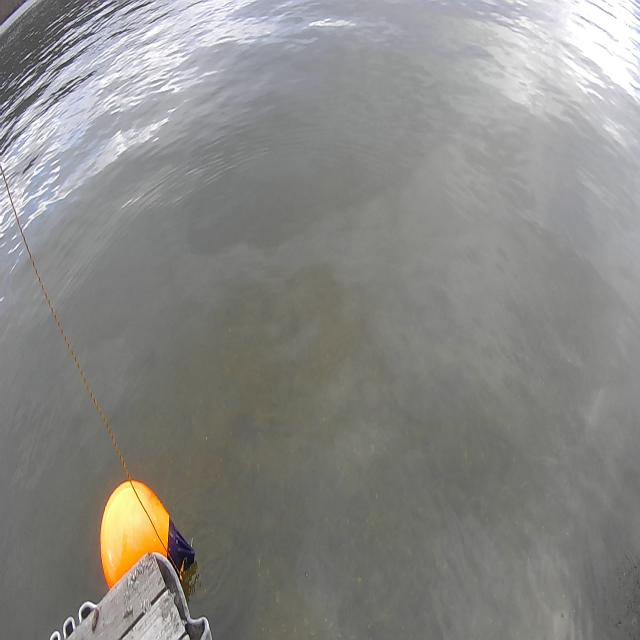Buoy: (97, 473, 200, 612)
